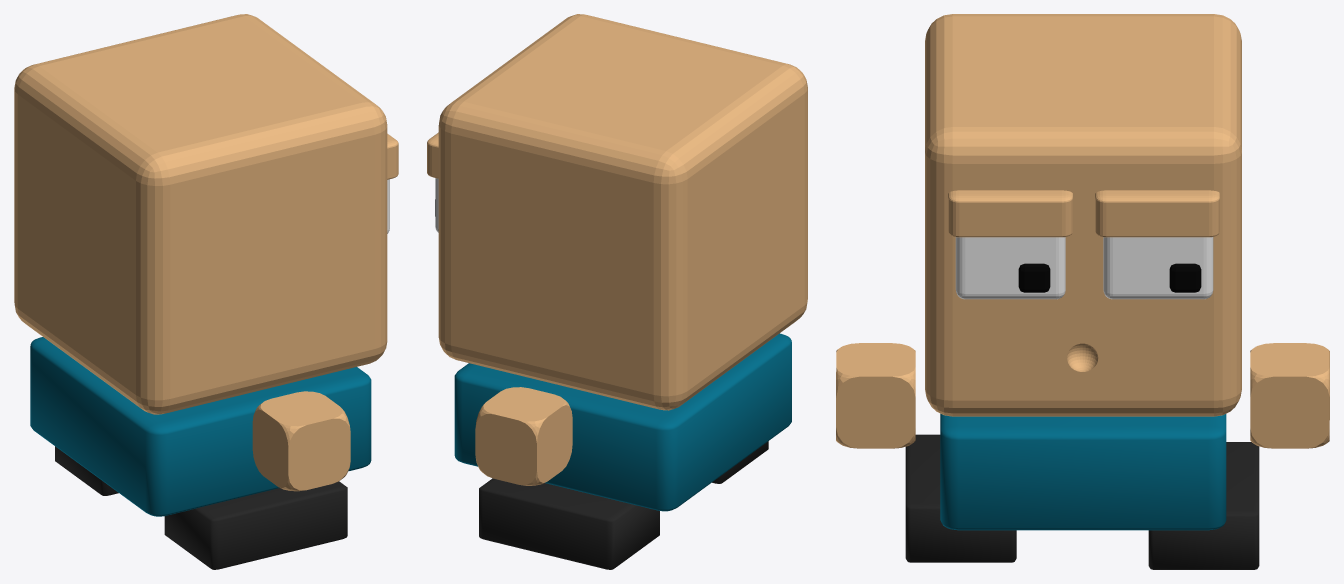
The model's file is unit.glb.
The picture shows the model from 3 angles, left to right: view 1: azimuth 30°, elevation 25°; view 2: azimuth 150°, elevation 25°; view 3: azimuth 270°, elevation 25°; orthographic projection. The views are drawn at different scales.
Parts seen in each view (by area): view 1: Cube, Cube.001, Cube.002, Cube.003, Cube.004, Cube.009; view 2: Cube, Cube.001, Cube.004, Cube.015, Cube.010, Cube.002; view 3: Cube, Cube.001, Cube.015, Cube.003, Cube.004, Cube.002, Cube.006, Cube.005, Cube.009, Cube.010, Cube.007, Cube.008.
Boxes of the visible parts, x1=… form: Cube: x1=14, y1=14, x2=387, y2=414; Cube.001: x1=30, y1=337, x2=371, y2=516; Cube.002: x1=164, y1=481, x2=347, y2=569; Cube.003: x1=252, y1=391, x2=350, y2=491; Cube.004: x1=55, y1=446, x2=118, y2=495; Cube.009: x1=387, y1=133, x2=398, y2=179; Cube: x1=438, y1=14, x2=807, y2=410; Cube.001: x1=454, y1=333, x2=791, y2=511; Cube.004: x1=479, y1=478, x2=659, y2=569; Cube.015: x1=475, y1=387, x2=572, y2=485; Cube.010: x1=427, y1=132, x2=438, y2=178; Cube.002: x1=712, y1=441, x2=768, y2=483; Cube: x1=925, y1=14, x2=1241, y2=416; Cube.001: x1=940, y1=413, x2=1226, y2=530; Cube.015: x1=1250, y1=343, x2=1329, y2=448; Cube.003: x1=836, y1=343, x2=915, y2=448; Cube.004: x1=1148, y1=442, x2=1259, y2=569; Cube.002: x1=905, y1=434, x2=1016, y2=562; Cube.006: x1=1103, y1=237, x2=1213, y2=299; Cube.005: x1=955, y1=237, x2=1065, y2=299; Cube.009: x1=948, y1=190, x2=1072, y2=237; Cube.010: x1=1095, y1=190, x2=1219, y2=237; Cube.007: x1=1169, y1=263, x2=1201, y2=292; Cube.008: x1=1018, y1=263, x2=1050, y2=292.
Size of the model in its own units: 0.2129 by 0.3222 by 0.3114.
